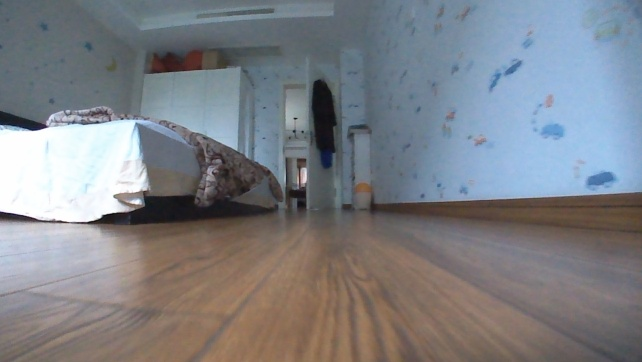bed: (0, 104, 285, 226)
door_anno: (301, 54, 342, 212)
